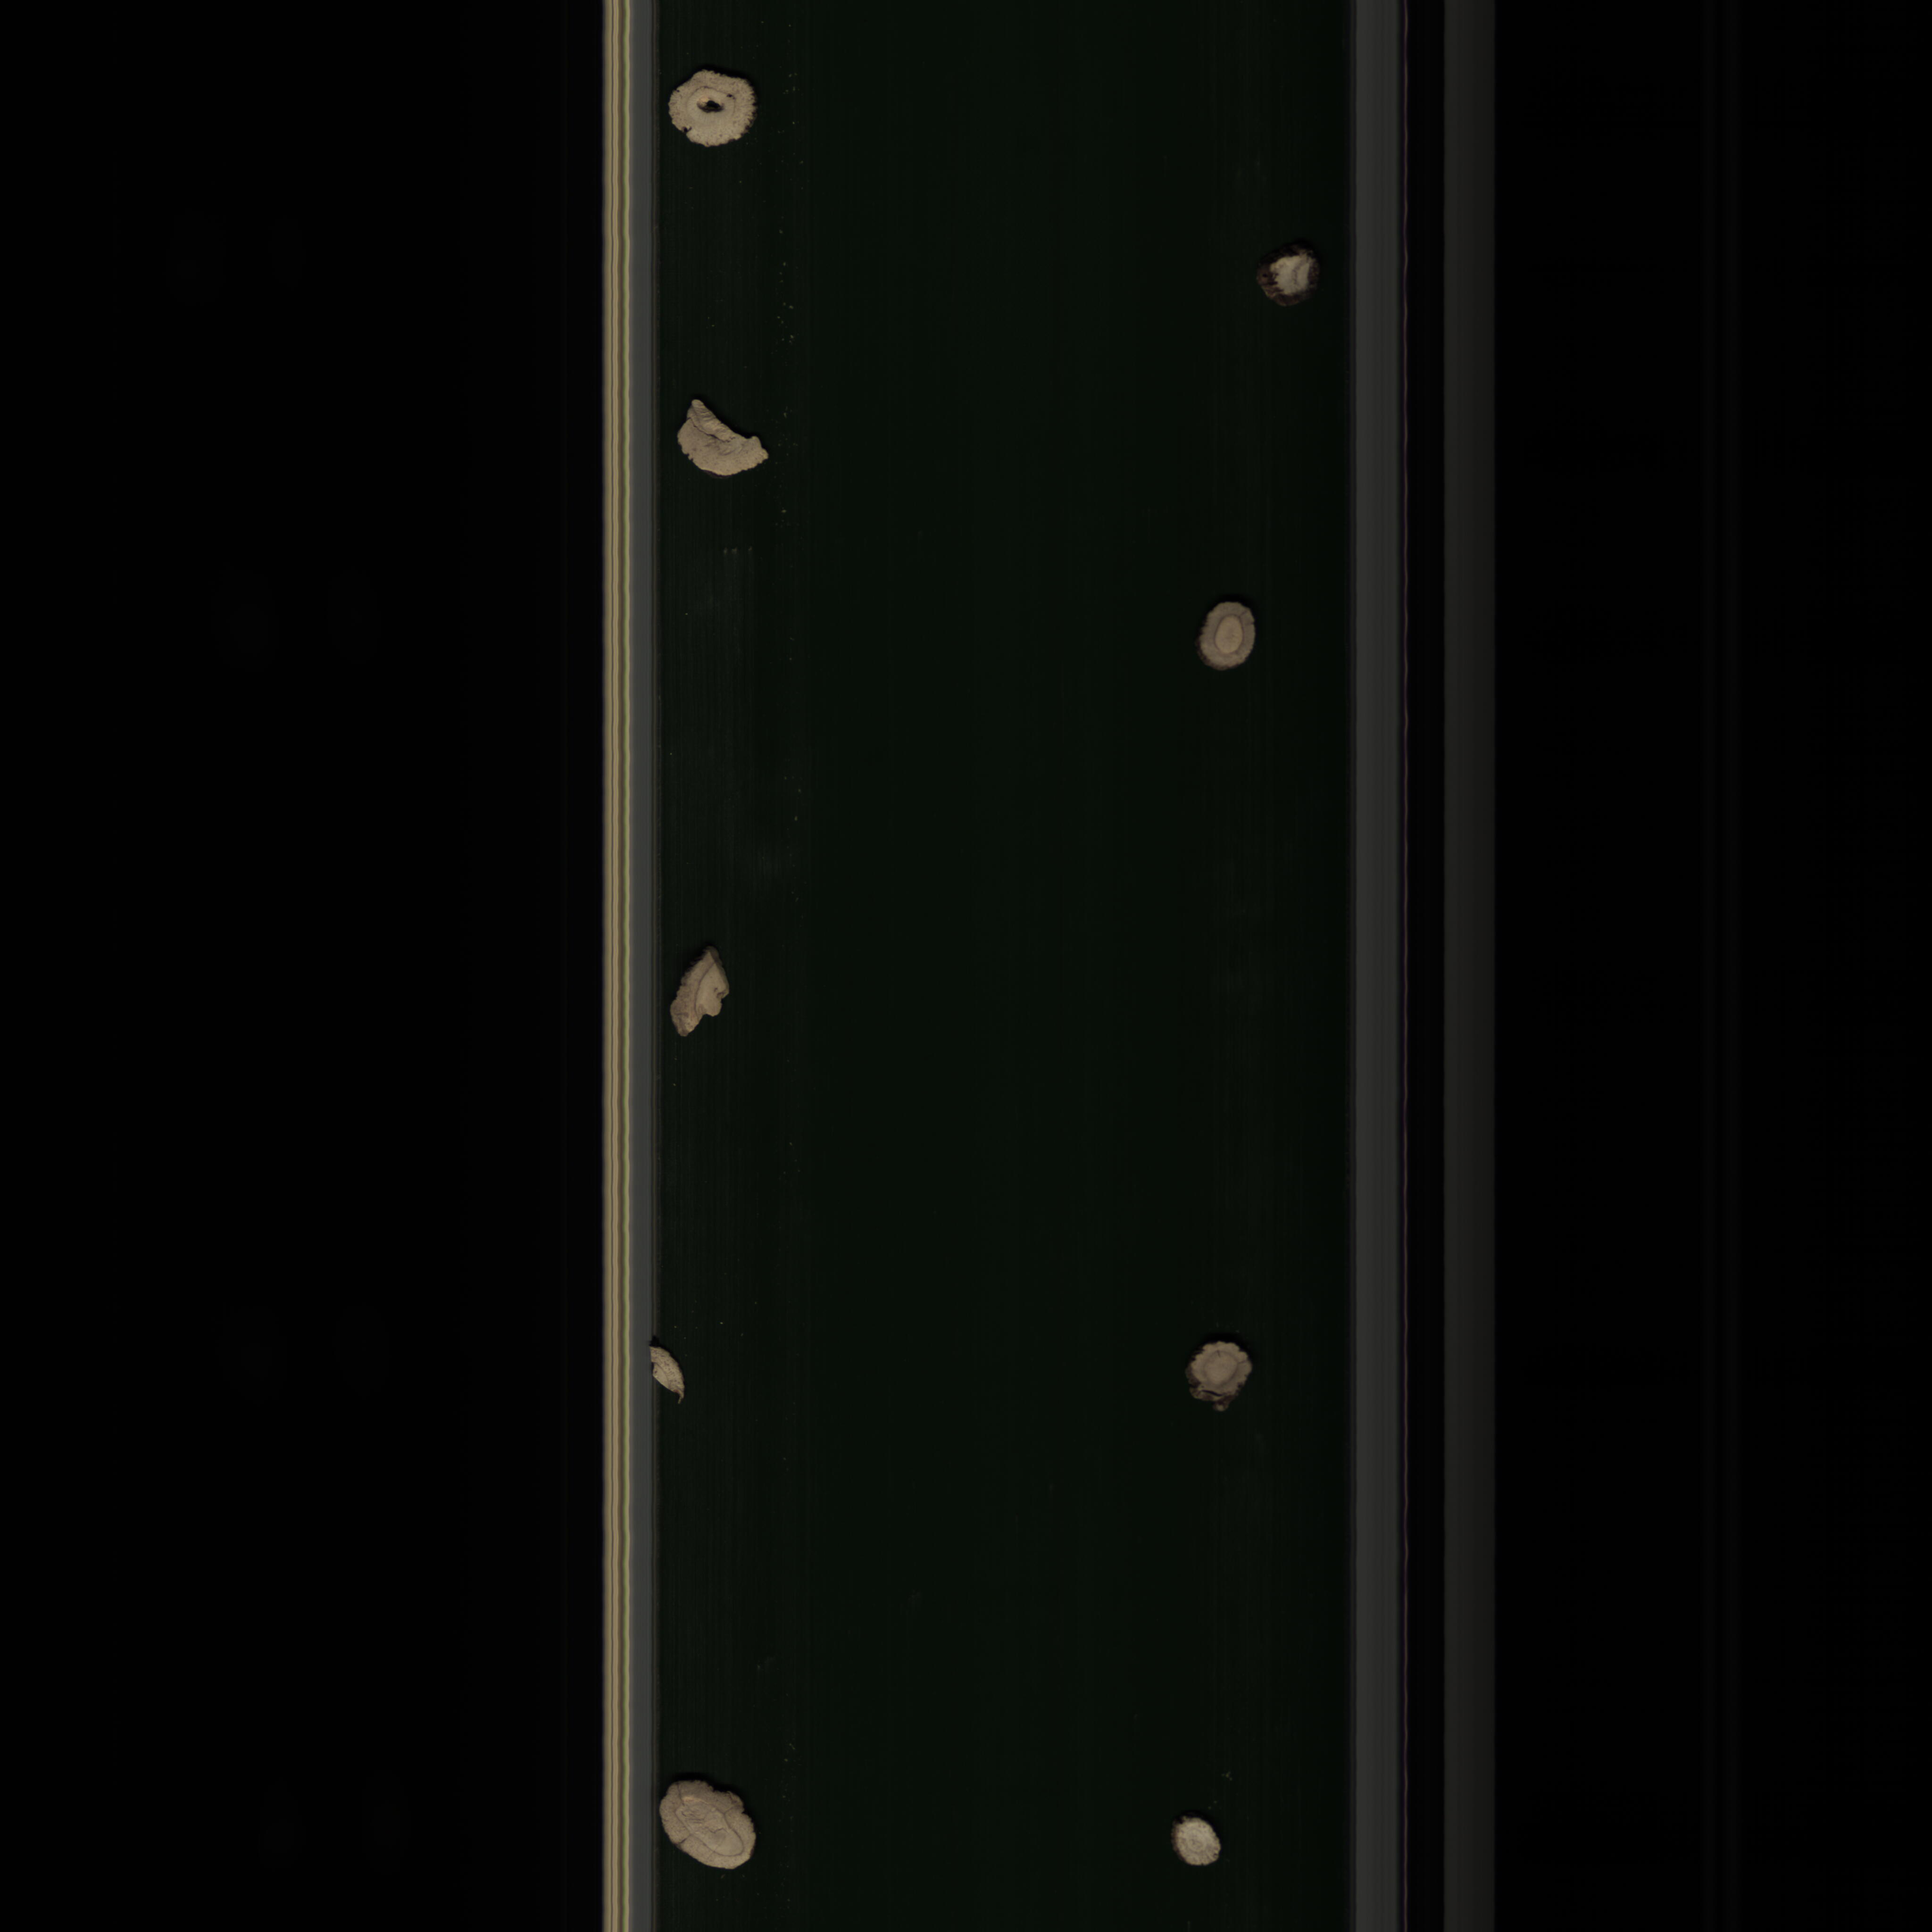bark: (1249, 244, 1323, 320)
debris: (669, 386, 777, 481), (669, 925, 738, 1044), (644, 1336, 692, 1412)
hole: (660, 65, 766, 161)
moldy: (1177, 1330, 1261, 1421), (1192, 594, 1265, 678)
